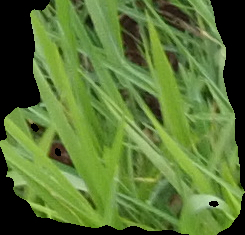grass: (1, 1, 244, 233)
